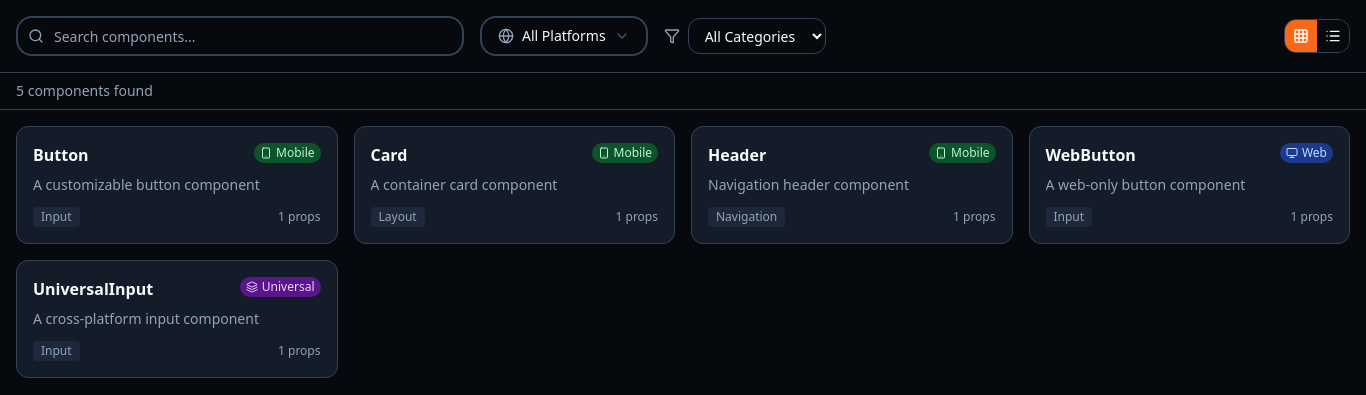
Scenario: ComponentGallery › filters by category when selected
# Find the category select by its default value
Select "Layout (1)" in the dropdown showing "All Categories" at {"x": 757, "y": 36}, box [688,18,826,54]
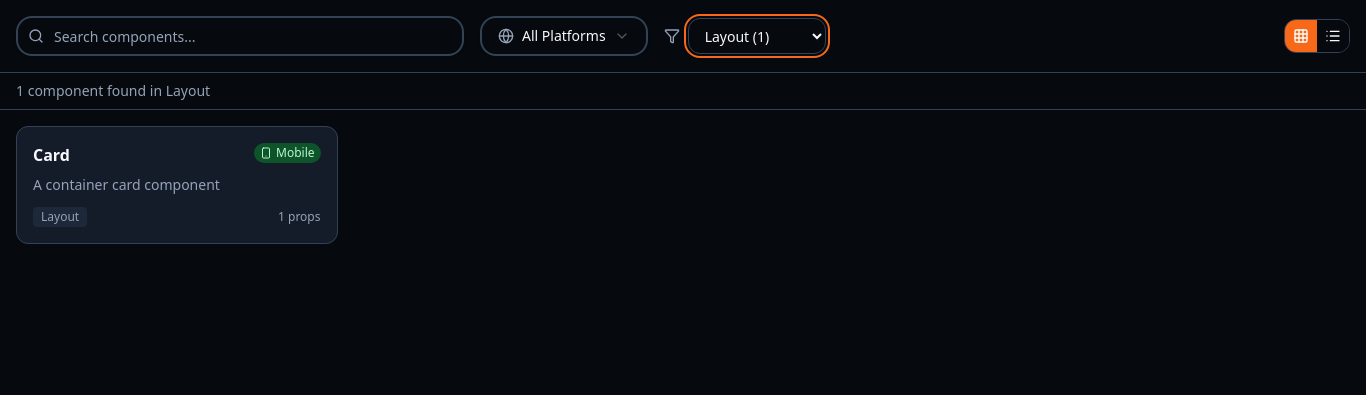
Expected: the heading "Card" is shown, [33,143,70,167]
Now the button "Button" is gone
